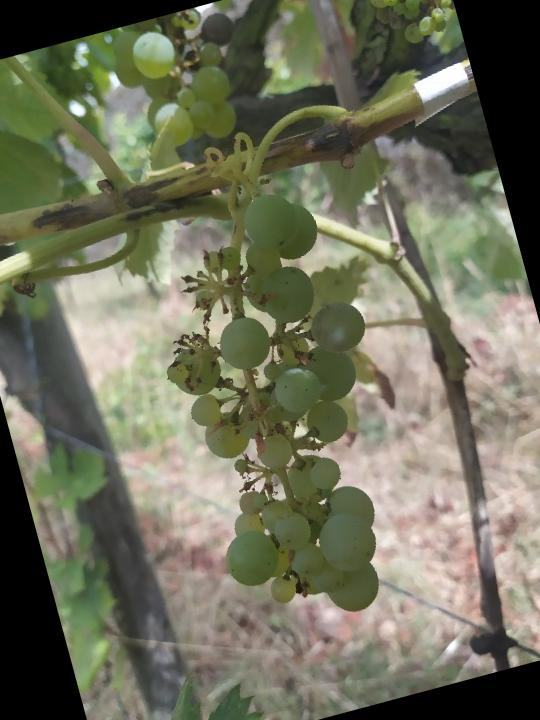grape: (125, 176, 440, 646)
